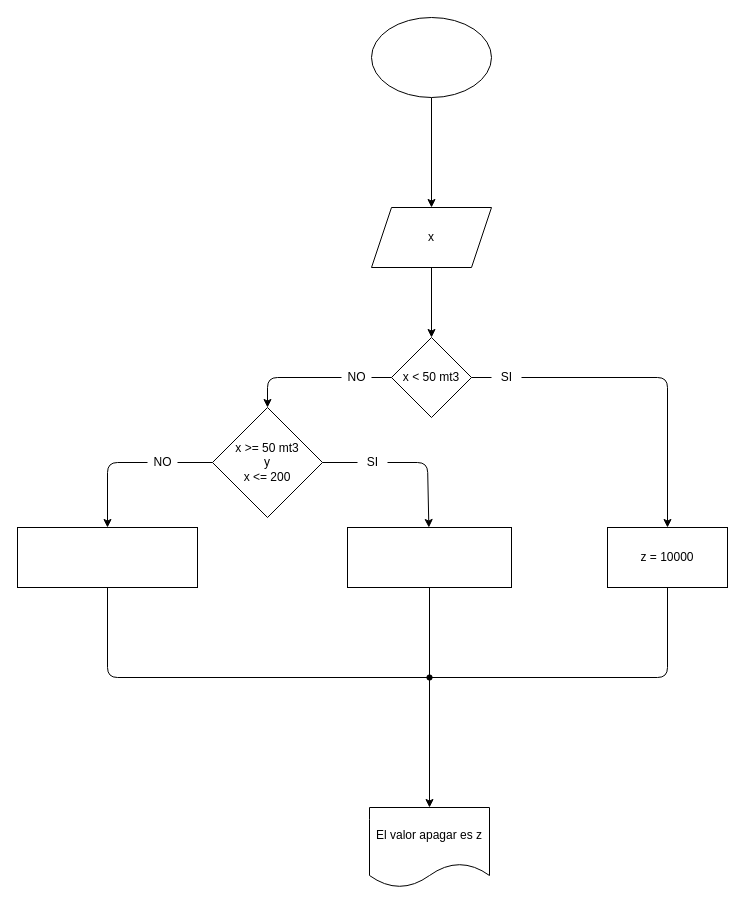
The diagram is 745 pixels wide and 905 high, and some of its shapes have lost their labels. The centre of each missing label's shape, as x and y in pixels:
"Inicio" goes at (x=431, y=57).
"z = 10000 + [2000 *( x - 50)]" goes at (x=429, y=557).
"z = 10000 + [3000 * (x - 200)]" goes at (x=107, y=557).
